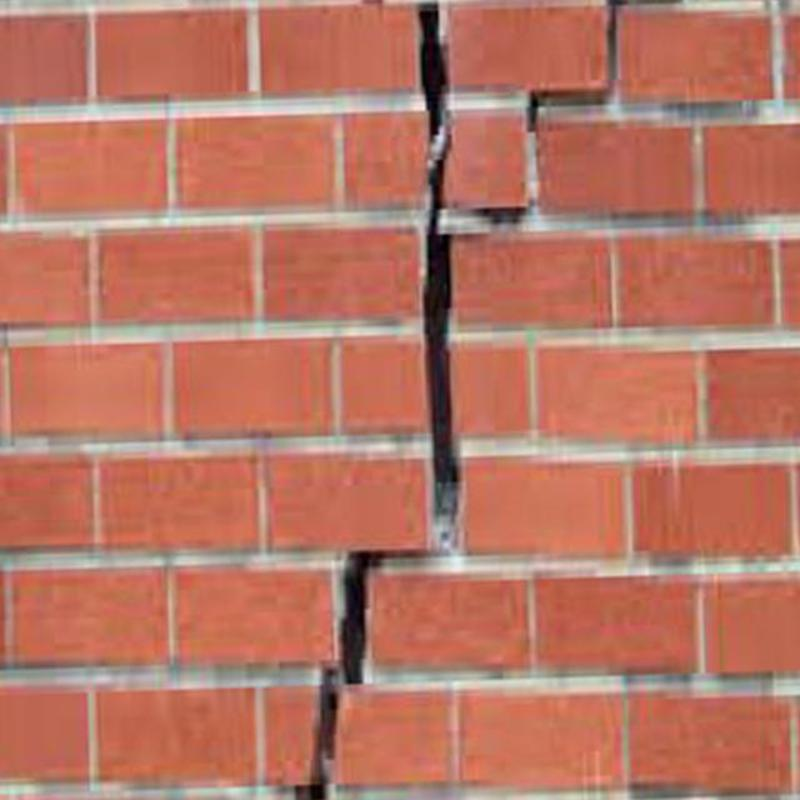crack: (419, 5, 459, 551), (297, 553, 375, 799), (522, 0, 622, 134), (475, 205, 526, 222)
